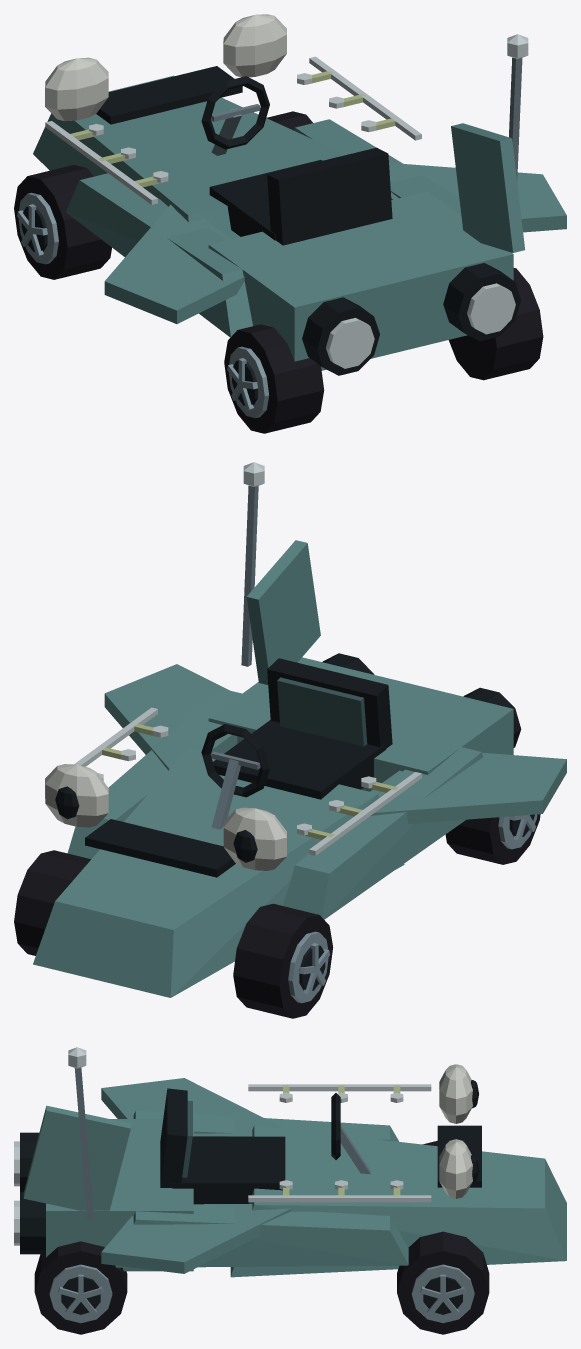
Rendered from kart.glb.
3 views of the same model, one above another, from view 1: azimuth 30°, elevation 25°; view 2: azimuth 150°, elevation 25°; view 3: azimuth 270°, elevation 25° (orthographic). The views are drawn at different scales.
Visible parts, largest first — view 1: identity-shuttle-shuttle-flight-planform, identity-shuttle-driver-cockpit, wheel-rear-left, wheel-front-left, identity-shuttle-motif-eyes, wheel-rear-right, identity-shuttle-motif-circuit, identity-shuttle-motif-antenna; view 2: identity-shuttle-shuttle-flight-planform, identity-shuttle-driver-cockpit, wheel-front-left, identity-shuttle-motif-eyes, wheel-front-right, identity-shuttle-motif-circuit, wheel-rear-left, identity-shuttle-motif-antenna; view 3: identity-shuttle-shuttle-flight-planform, identity-shuttle-driver-cockpit, wheel-front-right, wheel-rear-right, identity-shuttle-motif-circuit, identity-shuttle-motif-eyes, identity-shuttle-motif-antenna.
Boxes of the visible parts, <box> form: identity-shuttle-shuttle-flight-planform: <box>33,66,566,375</box>; identity-shuttle-driver-cockpit: <box>201,76,392,245</box>; wheel-rear-left: <box>224,324,324,433</box>; wheel-front-left: <box>14,165,111,279</box>; identity-shuttle-motif-eyes: <box>45,14,286,121</box>; wheel-rear-right: <box>448,268,543,380</box>; identity-shuttle-motif-circuit: <box>45,56,421,204</box>; identity-shuttle-motif-antenna: <box>507,34,528,181</box>; identity-shuttle-shuttle-flight-planform: <box>33,540,566,997</box>; identity-shuttle-driver-cockpit: <box>201,658,392,829</box>; wheel-front-left: <box>233,903,333,1018</box>; identity-shuttle-motif-eyes: <box>45,764,286,870</box>; wheel-front-right: <box>14,850,90,955</box>; identity-shuttle-motif-circuit: <box>74,707,421,855</box>; wheel-rear-left: <box>445,814,540,864</box>; identity-shuttle-motif-antenna: <box>241,462,264,666</box>; identity-shuttle-shuttle-flight-planform: <box>14,1078,566,1277</box>; identity-shuttle-driver-cockpit: <box>160,1088,370,1204</box>; wheel-front-right: <box>397,1231,489,1334</box>; wheel-rear-right: <box>34,1241,127,1334</box>; identity-shuttle-motif-circuit: <box>248,1084,431,1202</box>; identity-shuttle-motif-eyes: <box>439,1064,478,1198</box>; identity-shuttle-motif-antenna: <box>68,1047,93,1218</box>.
Bounding box in the file's own units: 2.36 × 1.72 × 2.99.
